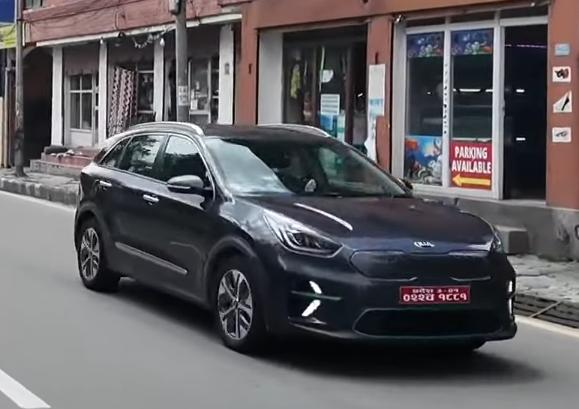car: (80, 114, 531, 364)
